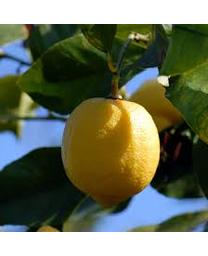lemon: (63, 98, 160, 207)
